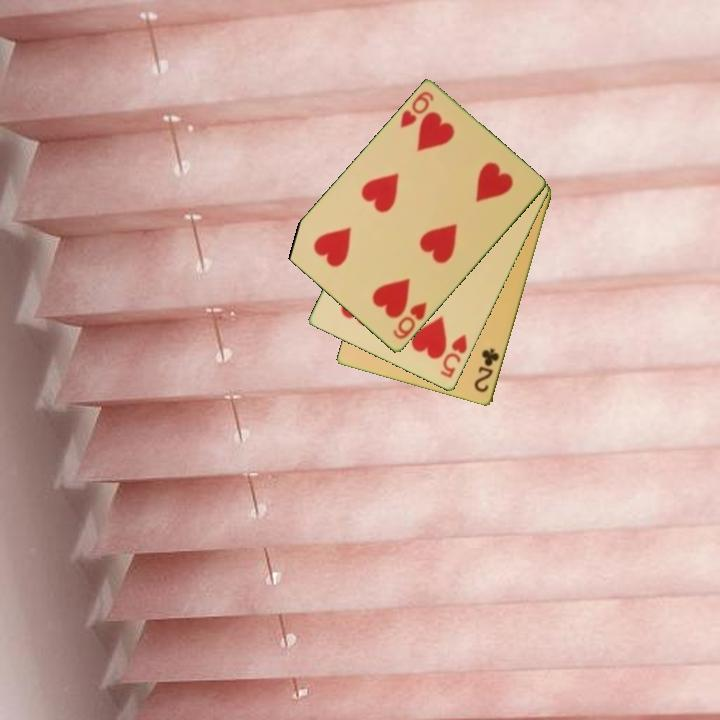2c: (471, 345, 503, 396)
5h: (437, 331, 470, 381)
6h: (389, 299, 430, 343), (396, 88, 437, 132)
